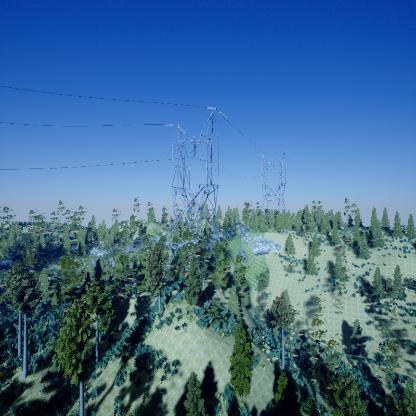tower: (161, 104, 230, 280), (255, 146, 290, 216)
